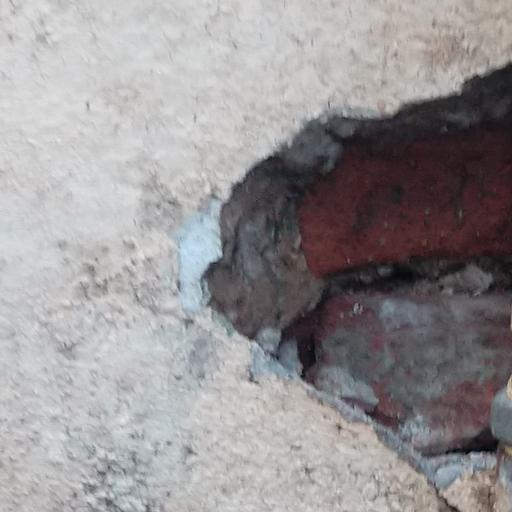spalling: (185, 79, 512, 502)
